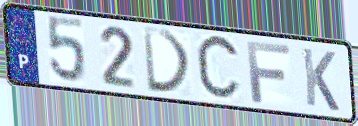2: (98, 25, 138, 91)
5: (46, 13, 89, 87)
C: (193, 32, 243, 105)
D: (141, 26, 195, 96)
F: (245, 39, 293, 106)
K: (299, 45, 341, 114)
